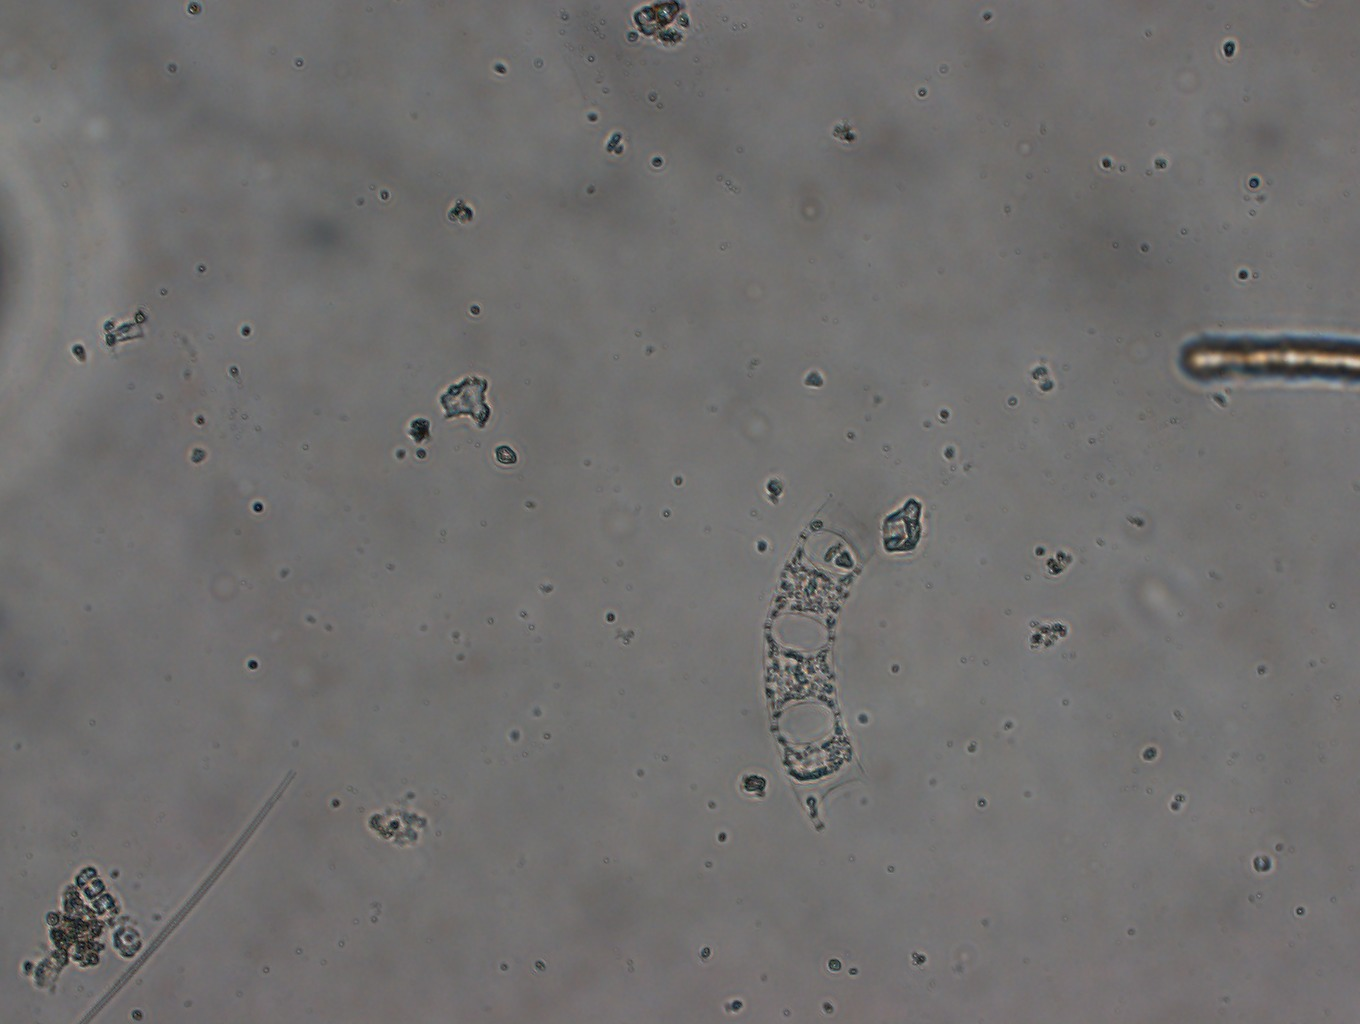eucampia: (762, 494, 879, 833)
